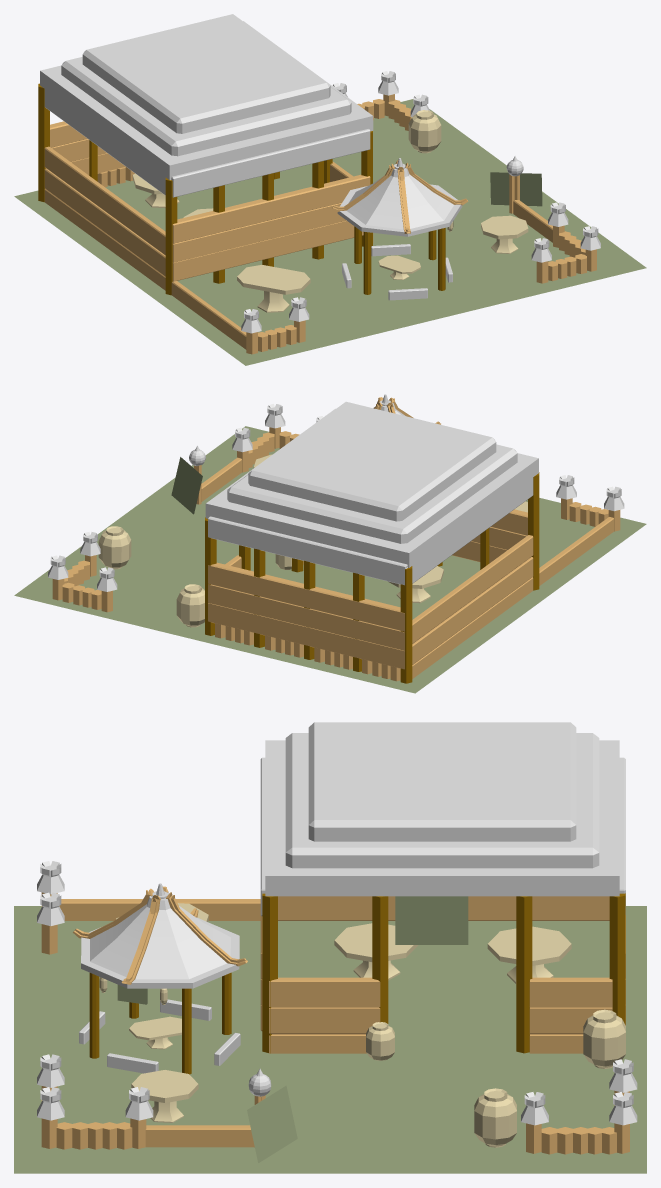
Rendered from 茶铺（uv已拆）2.fbx.
The picture shows the model from 3 angles, top to bottom: view 1: azimuth 30°, elevation 25°; view 2: azimuth 150°, elevation 25°; view 3: azimuth 270°, elevation 25°; orthographic projection. The views are drawn at different scales.
Parts seen in each view (by area): view 1: polySurface1134; view 2: polySurface1134; view 3: polySurface1134.
Boxes of the visible parts, bbox=[...] form: polySurface1134: bbox=[14, 14, 646, 365]; polySurface1134: bbox=[14, 394, 646, 693]; polySurface1134: bbox=[14, 722, 646, 1173].
Size of the model in its own units: 24.27 by 9.4 by 24.27.
